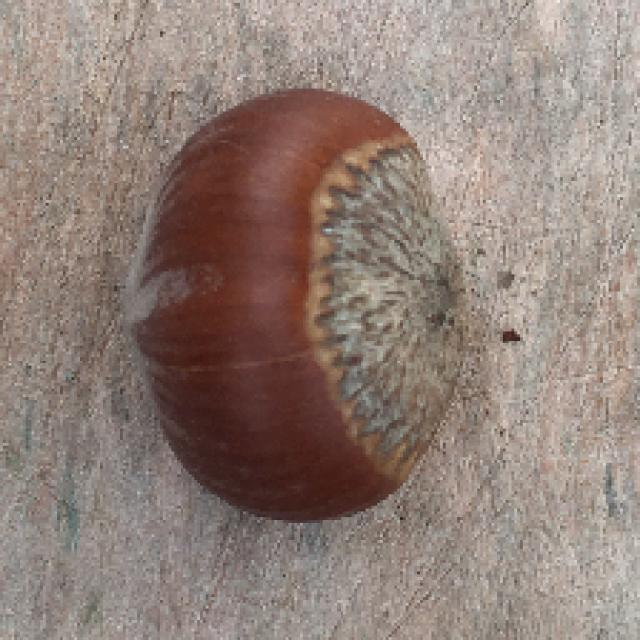qualityHazelnut: (127, 88, 465, 529)
